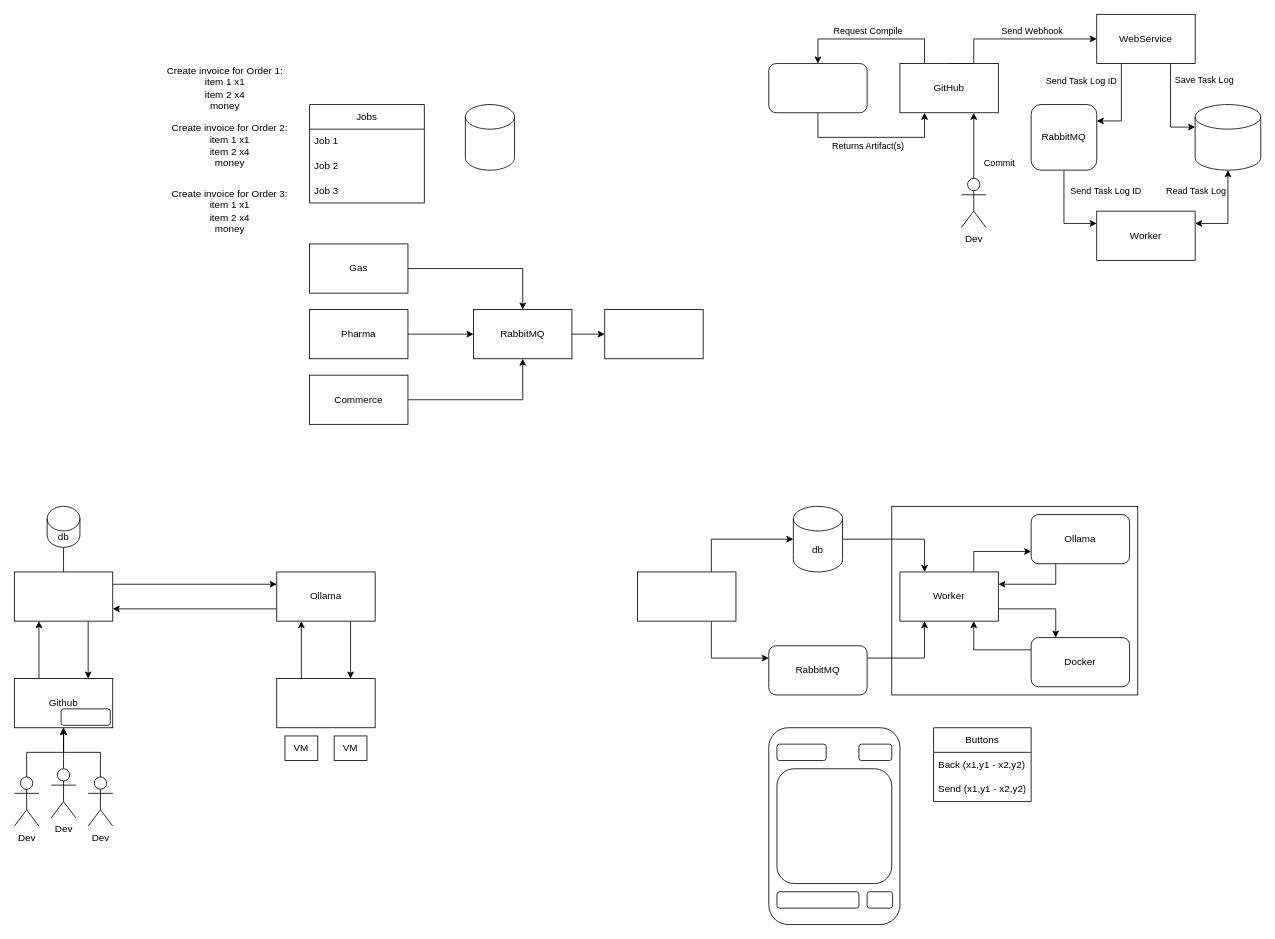
Image size: 1275x939. Some labels were removed from this diagram. Each missing label, with the centre of its shape:
AutoTest webservice: point (63, 596)
Back: point (875, 752)
Build .apk: point (85, 716)
Database: point (1227, 137)
Docker VM Orchestrator: point (325, 703)
Hehe: point (817, 899)
Invoice: point (653, 334)
Mess: point (801, 752)
Runner: Compile: point (817, 88)
Send: point (879, 899)
Text Editor: point (834, 826)
Web Service: point (686, 596)
